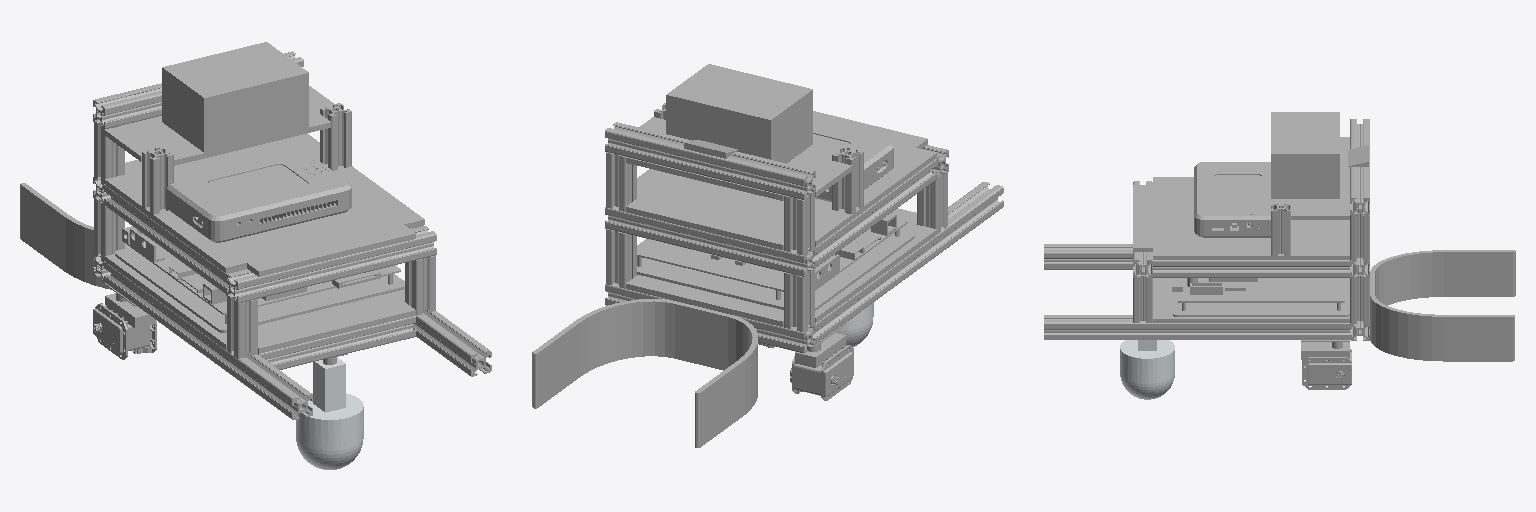
The robot description file, URDF, robot "model20":
<?xml version="1.0" encoding="utf-8"?>
<!-- This URDF was automatically created by SolidWorks to URDF Exporter! Originally created by [author] ([email redacted]) 
     Commit Version: 1.5.1-0-g916b5db  Build Version: 1.5.7152.31018
     For more information, please see http://wiki.ros.org/sw_urdf_exporter -->
<robot
  name="model20">
  <link
    name="base_link">
    <inertial>
      <origin
        xyz="-0.0483583892056311 -0.569818604236544 -0.0265692597772422"
        rpy="0 0 0" />
      <mass
        value="3.2125402349035" />
      <inertia
        ixx="0.00721904461730867"
        ixy="-1.93643410745551E-06"
        ixz="-3.86677335720237E-07"
        iyy="0.00580133003669007"
        iyz="3.92311651876708E-07"
        izz="0.0125108174018615" />
    </inertial>
    <visual>
      <origin
        xyz="0 0 0"
        rpy="0 0 0" />
      <geometry>
        <mesh
          filename="package://model20/meshes/base_link.STL" />
      </geometry>
      <material
        name="">
        <color
          rgba="0.752941176470588 0.752941176470588 0.752941176470588 1" />
      </material>
    </visual>
    <collision>
      <origin
        xyz="0 0 0"
        rpy="0 0 0" />
      <geometry>
        <mesh
          filename="package://model20/meshes/base_link.STL" />
      </geometry>
    </collision>
  </link>
  <link
    name="left_front_wheel_suspension">
    <inertial>
      <origin
        xyz="-0.00786753377996491 -0.0155948984609842 0.023255646876256"
        rpy="0 0 0" />
      <mass
        value="0.0651133753252895" />
      <inertia
        ixx="1.48802654908116E-05"
        ixy="1.64845451975804E-08"
        ixz="-1.56420031463122E-07"
        iyy="1.75245555055195E-05"
        iyz="-2.96403540336099E-09"
        izz="8.01010024686586E-06" />
    </inertial>
    <visual>
      <origin
        xyz="0 0 0"
        rpy="0 0 0" />
      <geometry>
        <mesh
          filename="package://model20/meshes/left_front_wheel_suspension.STL" />
      </geometry>
      <material
        name="">
        <color
          rgba="0.752941176470588 0.752941176470588 0.752941176470588 1" />
      </material>
    </visual>
    <collision>
      <origin
        xyz="0 0 0"
        rpy="0 0 0" />
      <geometry>
        <mesh
          filename="package://model20/meshes/left_front_wheel_suspension.STL" />
      </geometry>
    </collision>
  </link>
  <joint
    name="left_front_wheel_suspension_joint"
    type="prismatic">
    <origin
      xyz="-0.126408549299102 -0.497497400808498 -0.100377754287938"
      rpy="1.5707963267949 0 0" />
    <parent
      link="base_link" />
    <child
      link="left_front_wheel_suspension" />
    <axis
      xyz="0 1 0" />
    <limit
      lower="0"
      upper="0"
      effort="0"
      velocity="0" />
  </joint>
  <link
    name="left_front_wheel">
    <inertial>
      <origin
        xyz="0.0158399891826274 -4.59981459866032E-09 7.99690621500204E-08"
        rpy="0 0 0" />
      <mass
        value="0.22822169800504" />
      <inertia
        ixx="0.000789211576324214"
        ixy="-1.09995507949422E-10"
        ixz="1.91230261060059E-09"
        iyy="0.000410429434291453"
        iyz="-5.55682412519028E-16"
        izz="0.000410429434301075" />
    </inertial>
    <visual>
      <origin
        xyz="0 0 0"
        rpy="0 0 0" />
      <geometry>
        <mesh
          filename="package://model20/meshes/left_front_wheel.STL" />
      </geometry>
      <material
        name="">
        <color
          rgba="1 1 1 1" />
      </material>
    </visual>
    <collision>
      <origin
        xyz="0 0 0"
        rpy="0 0 0" />
      <geometry>
        <mesh
          filename="package://model20/meshes/left_front_wheel.STL" />
      </geometry>
    </collision>
  </link>
  <joint
    name="left_front_wheel_joint"
    type="continuous">
    <origin
      xyz="-0.01976 -0.021787 0.0099999"
      rpy="3.0841 0 3.1416" />
    <parent
      link="left_front_wheel_suspension" />
    <child
      link="left_front_wheel" />
    <axis
      xyz="1 0 0" />
    <limit
      effort="3.1"
      velocity="7" />
  </joint>
  <link
    name="right_front_wheel_suspension">
    <inertial>
      <origin
        xyz="-0.00415434378457435 -0.0156302499401892 0.023255686661272"
        rpy="0 0 0" />
      <mass
        value="0.0651133753251555" />
      <inertia
        ixx="1.48802639086072E-05"
        ixy="1.648453020563E-08"
        ixz="1.56454773175217E-07"
        iyy="1.75245555054544E-05"
        iyz="2.96411876510212E-09"
        izz="8.01010182899685E-06" />
    </inertial>
    <visual>
      <origin
        xyz="0 0 0"
        rpy="0 0 0" />
      <geometry>
        <mesh
          filename="package://model20/meshes/right_front_wheel_suspension.STL" />
      </geometry>
      <material
        name="">
        <color
          rgba="0.752941176470588 0.752941176470588 0.752941176470588 1" />
      </material>
    </visual>
    <collision>
      <origin
        xyz="0 0 0"
        rpy="0 0 0" />
      <geometry>
        <mesh
          filename="package://model20/meshes/right_front_wheel_suspension.STL" />
      </geometry>
    </collision>
  </link>
  <joint
    name="right_front_wheel_suspension_joint"
    type="prismatic">
    <origin
      xyz="0.043591 -0.4975 -0.10038"
      rpy="1.5708 0 0" />
    <parent
      link="base_link" />
    <child
      link="right_front_wheel_suspension" />
    <axis
      xyz="0 1 0" />
    <limit
      lower="0"
      upper="0"
      effort="0"
      velocity="0" />
  </joint>
  <link
    name="right_front_wheel">
    <inertial>
      <origin
        xyz="0.015839199018542 1.11022302462516E-16 0"
        rpy="0 0 0" />
      <mass
        value="0.22822169800504" />
      <inertia
        ixx="0.000789211576333899"
        ixy="-3.39635020580722E-20"
        ixz="5.20789276468475E-21"
        iyy="0.000410429434291421"
        iyz="-3.25260651745651E-19"
        izz="0.00041042943429142" />
    </inertial>
    <visual>
      <origin
        xyz="0 0 0"
        rpy="0 0 0" />
      <geometry>
        <mesh
          filename="package://model20/meshes/right_front_wheel.STL" />
      </geometry>
      <material
        name="">
        <color
          rgba="1 1 1 1" />
      </material>
    </visual>
    <collision>
      <origin
        xyz="0 0 0"
        rpy="0 0 0" />
      <geometry>
        <mesh
          filename="package://model20/meshes/right_front_wheel.STL" />
      </geometry>
    </collision>
  </link>
  <joint
    name="right_front_wheel_joint"
    type="continuous">
    <origin
      xyz="0.0077391 -0.021785 0.01"
      rpy="0.1626 0 0" />
    <parent
      link="right_front_wheel_suspension" />
    <child
      link="right_front_wheel" />
    <axis
      xyz="1 0 0" />
    <limit
      effort="3.1"
      velocity="7" />
  </joint>
  <link
    name="camera">
    <inertial>
      <origin
        xyz="-0.0113544749097687 0.00129821973144107 1.10631679103926E-05"
        rpy="0 0 0" />
      <mass
        value="0.0436119950287127" />
      <inertia
        ixx="2.35707058046401E-05"
        ixy="2.17579681215252E-08"
        ixz="1.01813691699836E-09"
        iyy="2.21058141232449E-05"
        iyz="8.85791114075603E-10"
        izz="4.29479133591155E-06" />
    </inertial>
    <visual>
      <origin
        xyz="0 0 0"
        rpy="0 0 0" />
      <geometry>
        <mesh
          filename="package://model20/meshes/camera.STL" />
      </geometry>
      <material
        name="">
        <color
          rgba="0.792156862745098 0.819607843137255 0.933333333333333 1" />
      </material>
    </visual>
    <collision>
      <origin
        xyz="0 0 0"
        rpy="0 0 0" />
      <geometry>
        <mesh
          filename="package://model20/meshes/camera.STL" />
      </geometry>
    </collision>
  </link>
  <joint
    name="camera"
    type="fixed">
    <origin
      xyz="-0.047428 -0.4557 0.02061"
      rpy="1.5708 0 1.5708" />
    <parent
      link="base_link" />
    <child
      link="camera" />
    <axis
      xyz="0 0 0" />
  </joint>
  <link
    name="camera2">
    <inertial>
      <origin
        xyz="-0.0113544534309981 0.00129834296576298 1.07114395615296E-05"
        rpy="0 0 0" />
      <mass
        value="0.0436115646020756" />
      <inertia
        ixx="2.35700541862173E-05"
        ixy="2.17644981327683E-08"
        ixz="9.97288459824813E-10"
        iyy="2.21052311066007E-05"
        iyz="6.84462776106544E-10"
        izz="4.294719281608E-06" />
    </inertial>
    <visual>
      <origin
        xyz="0 0 0"
        rpy="0 0 0" />
      <geometry>
        <mesh
          filename="package://model20/meshes/camera2.STL" />
      </geometry>
      <material
        name="">
        <color
          rgba="0.792156862745098 0.819607843137255 0.933333333333333 1" />
      </material>
    </visual>
    <collision>
      <origin
        xyz="0 0 0"
        rpy="0 0 0" />
      <geometry>
        <mesh
          filename="package://model20/meshes/camera2.STL" />
      </geometry>
    </collision>
  </link>
  <joint
    name="camera2"
    type="fixed">
    <origin
      xyz="-0.047428 -0.4697 0.089145"
      rpy="1.5708 -0.2618 1.5708" />
    <parent
      link="base_link" />
    <child
      link="camera2" />
    <axis
      xyz="0 0 0" />
  </joint>
  <link
    name="lidar">
    <inertial>
      <origin
        xyz="-0.00868778989367747 -0.00242014065569162 -0.0287648859064543"
        rpy="0 0 0" />
      <mass
        value="0.0730845706123876" />
      <inertia
        ixx="1.9580875609635E-05"
        ixy="-1.03933750344926E-07"
        ixz="4.28391241039135E-07"
        iyy="2.41250086763081E-05"
        iyz="-9.42709906914273E-09"
        izz="4.1418452244397E-05" />
    </inertial>
    <visual>
      <origin
        xyz="0 0 0"
        rpy="0 0 0" />
      <geometry>
        <mesh
          filename="package://model20/meshes/lidar.STL" />
      </geometry>
      <material
        name="">
        <color
          rgba="0.792156862745098 0.819607843137255 0.933333333333333 1" />
      </material>
    </visual>
    <collision>
      <origin
        xyz="0 0 0"
        rpy="0 0 0" />
      <geometry>
        <mesh
          filename="package://model20/meshes/lidar.STL" />
      </geometry>
    </collision>
  </link>
  <joint
    name="lidar_joint"
    type="fixed">
    <origin
      xyz="-0.039622 -0.54176 0.15412"
      rpy="0 0 1.5708" />
    <parent
      link="base_link" />
    <child
      link="lidar" />
    <axis
      xyz="0 0 0" />
  </joint>
  <link
    name="imu">
    <inertial>
      <origin
        xyz="0 0.00250000000000003 0"
        rpy="0 0 0" />
      <mass
        value="0.000510000000000001" />
      <inertia
        ixx="5.31250000000002E-09"
        ixy="5.52943107967612E-26"
        ixz="-7.37257477290141E-26"
        iyy="8.50000000000004E-09"
        iyz="1.56688295209998E-40"
        izz="5.31250000000002E-09" />
    </inertial>
    <visual>
      <origin
        xyz="0 0 0"
        rpy="0 0 0" />
      <geometry>
        <mesh
          filename="package://model20/meshes/imu.STL" />
      </geometry>
      <material
        name="">
        <color
          rgba="1 1 1 1" />
      </material>
    </visual>
    <collision>
      <origin
        xyz="0 0 0"
        rpy="0 0 0" />
      <geometry>
        <mesh
          filename="package://model20/meshes/imu.STL" />
      </geometry>
    </collision>
  </link>
  <joint
    name="imu"
    type="fixed">
    <origin
      xyz="-0.08867 -0.5725 0.10062"
      rpy="1.5708 0 0" />
    <parent
      link="base_link" />
    <child
      link="imu" />
    <axis
      xyz="0 0 0" />
  </joint>
  <link
    name="rear_wheel">
    <inertial>
      <origin
        xyz="-2.08166817117217E-17 -0.0587398646659116 -1.11022302462516E-16"
        rpy="0 0 0" />
      <mass
        value="0.350258660632925" />
      <inertia
        ixx="0.0001661084299666"
        ixy="1.57966005845945E-21"
        ixz="-9.68053563945766E-22"
        iyy="0.000114730603640893"
        iyz="3.07741679828361E-21"
        izz="0.0001661084299666" />
    </inertial>
    <visual>
      <origin
        xyz="0 0 0"
        rpy="0 0 0" />
      <geometry>
        <mesh
          filename="package://model20/meshes/rear_wheel.STL" />
      </geometry>
      <material
        name="">
        <color
          rgba="0.898039215686275 0.917647058823529 0.929411764705882 1" />
      </material>
    </visual>
    <collision>
      <origin
        xyz="0 0 0"
        rpy="0 0 0" />
      <geometry>
        <mesh
          filename="package://model20/meshes/rear_wheel.STL" />
      </geometry>
    </collision>
  </link>
  <joint
    name="rear_wheel"
    type="continuous">
    <origin
      xyz="-0.046425 -0.703 -0.10038"
      rpy="1.5708 0 0" />
    <parent
      link="base_link" />
    <child
      link="rear_wheel" />
    <axis
      xyz="0 1 0" />
  </joint>
</robot>

--- Facts derived from the render (not from the file) ---
3 views of the same robot in one strip: view 1: azimuth 30°, elevation 25°; view 2: azimuth 150°, elevation 25°; view 3: azimuth 270°, elevation 25° (orthographic).
Model model20 with 10 links and 9 joints (3 continuous, 2 prismatic, 4 fixed), rooted at base_link, posed all joints at 0.
Links seen in each view (by area): view 1: base_link, rear_wheel, left_front_wheel_suspension; view 2: base_link, left_front_wheel_suspension, rear_wheel; view 3: base_link, rear_wheel, right_front_wheel_suspension.
Boxes of the visible links, x1=… form: base_link: x1=20, y1=42, x2=491, y2=419; rear_wheel: x1=296, y1=358, x2=363, y2=469; left_front_wheel_suspension: x1=93, y1=293, x2=156, y2=359; base_link: x1=532, y1=64, x2=1003, y2=447; left_front_wheel_suspension: x1=790, y1=333, x2=853, y2=400; rear_wheel: x1=835, y1=302, x2=873, y2=346; base_link: x1=1044, y1=112, x2=1515, y2=361; rear_wheel: x1=1120, y1=340, x2=1174, y2=399; right_front_wheel_suspension: x1=1301, y1=342, x2=1351, y2=389.
Size in the robot's own frame: 0.2215 by 0.4775 by 0.2968 metres.
Meshes: 10 distinct files referenced, 4 mesh visuals loaded (4 binary STL); not drawn: 6 (reference not matched to a file when rendering).